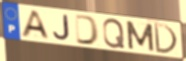A: (19, 10, 51, 41)
D: (152, 22, 179, 56), (74, 14, 101, 47)
J: (52, 14, 71, 42)
M: (125, 20, 157, 53)
Q: (101, 17, 126, 49)
